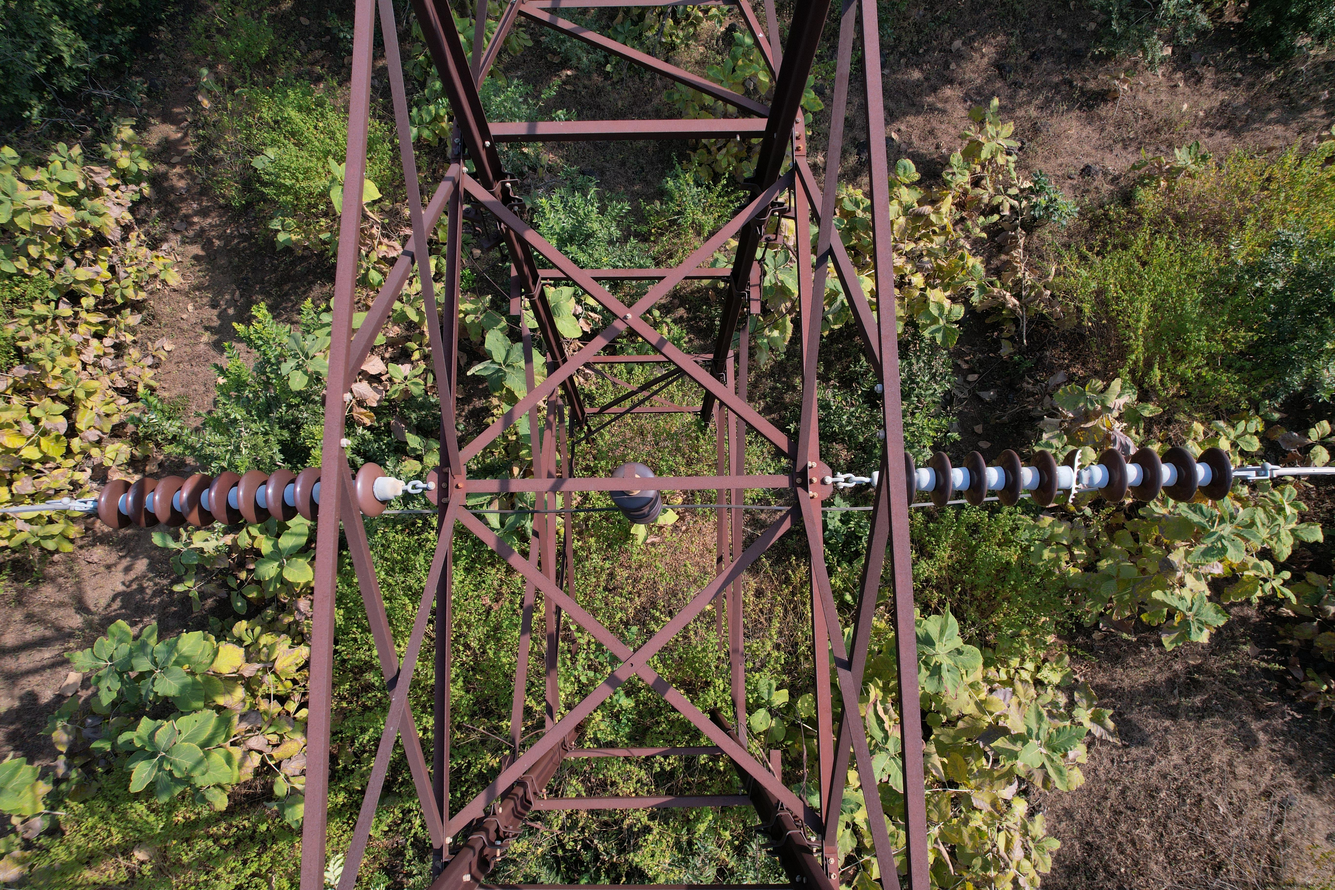broken_insulator: (1063, 448, 1085, 506)
